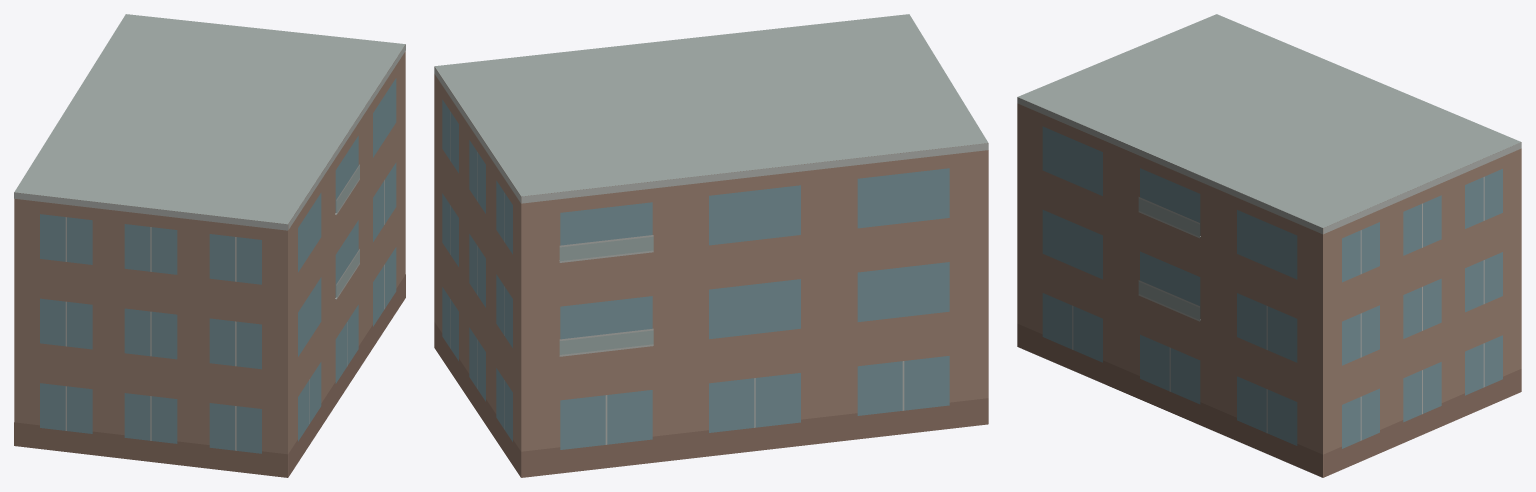
File: survey-upis-32951785.glb
3 views of the same model, side by side, from view 1: azimuth 30°, elevation 25°; view 2: azimuth 150°, elevation 25°; view 3: azimuth 270°, elevation 25° (orthographic). The views are drawn at different scales.
Visible parts, largest first — view 1: survey-upis-32951785.tmp; view 2: survey-upis-32951785.tmp; view 3: survey-upis-32951785.tmp.
Boxes of the visible parts, box(x1,y1,x2,y2) form: survey-upis-32951785.tmp: box(14, 14, 405, 477); survey-upis-32951785.tmp: box(434, 14, 988, 477); survey-upis-32951785.tmp: box(1017, 14, 1521, 477).
Size of the model in its own units: 17.77 by 9.66 by 17.69.
